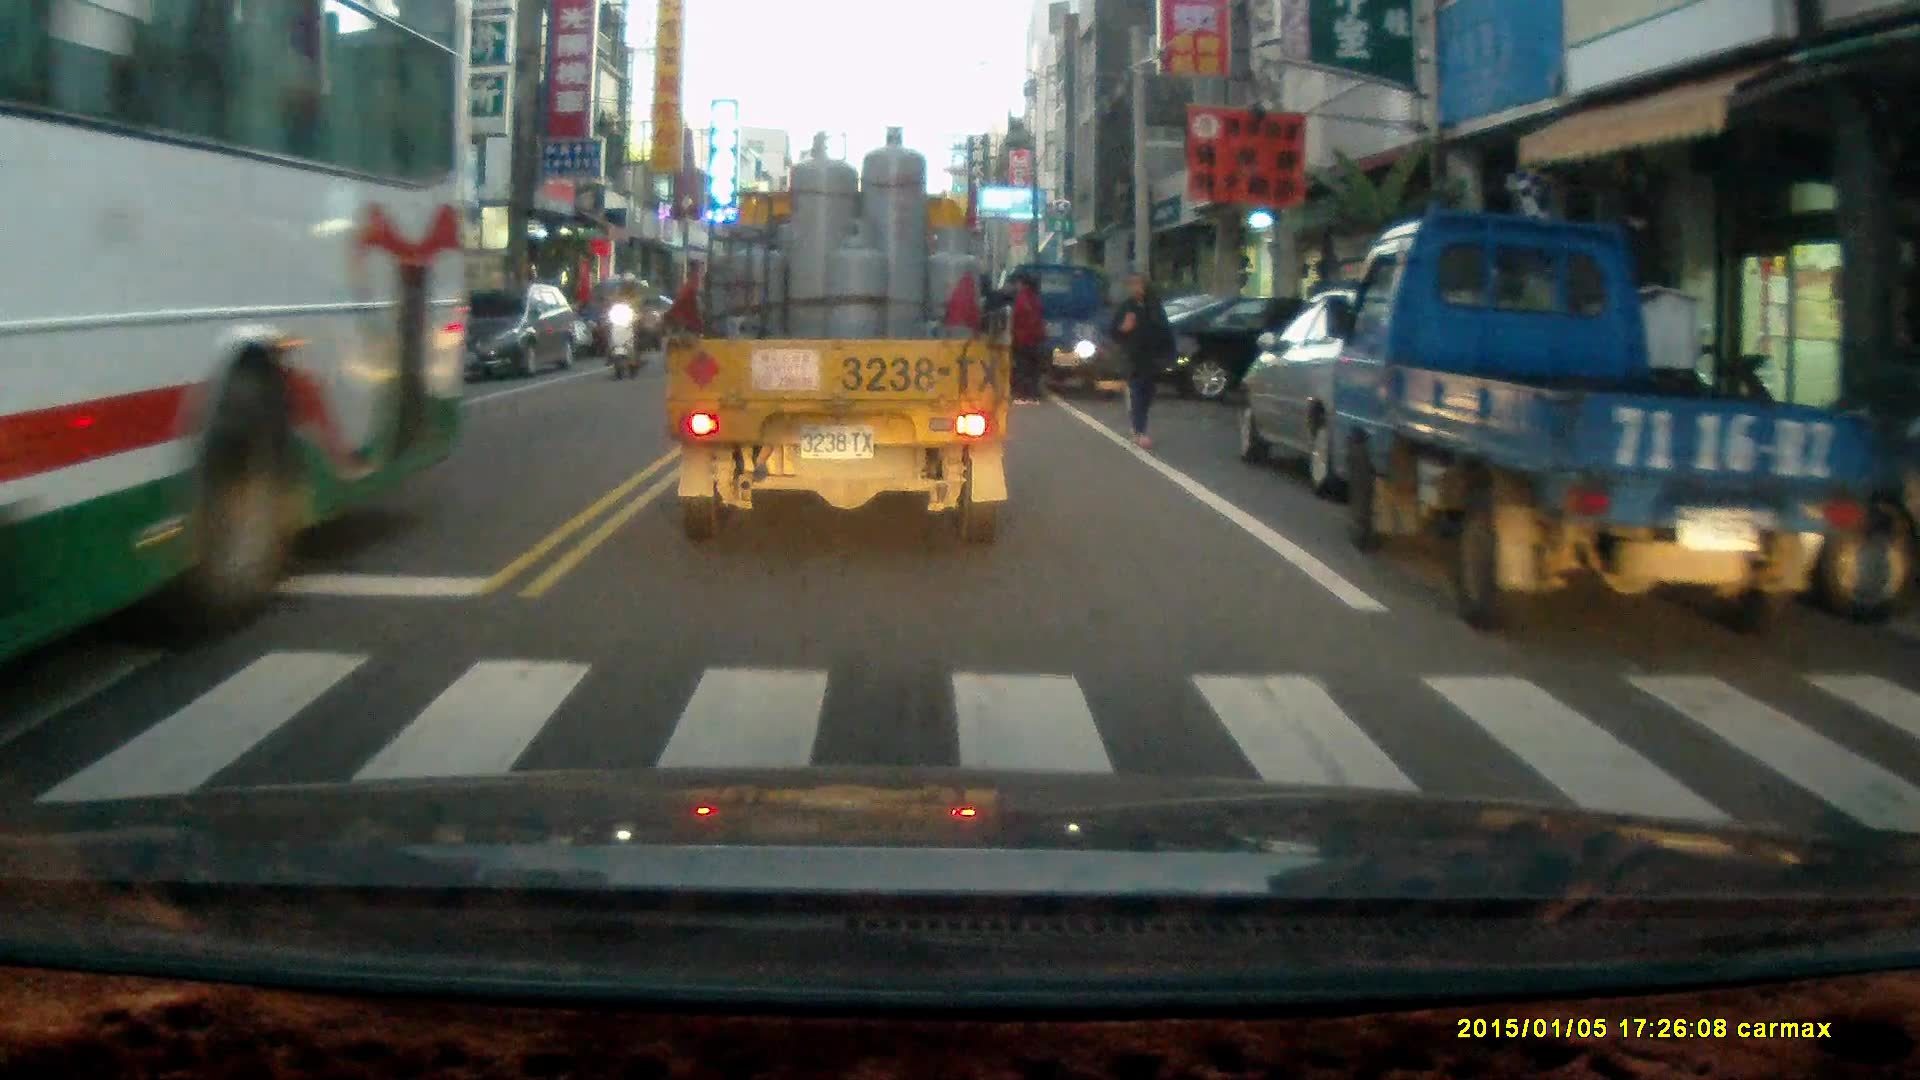pedestrian: (1109, 268, 1172, 444), (1007, 272, 1044, 403)
rider: (603, 269, 650, 380)
vehicle: (1, 2, 472, 673), (1323, 207, 1847, 637), (665, 124, 1016, 550), (1230, 282, 1540, 505), (1146, 289, 1403, 410), (996, 261, 1132, 399), (448, 282, 580, 380), (578, 277, 671, 361)
